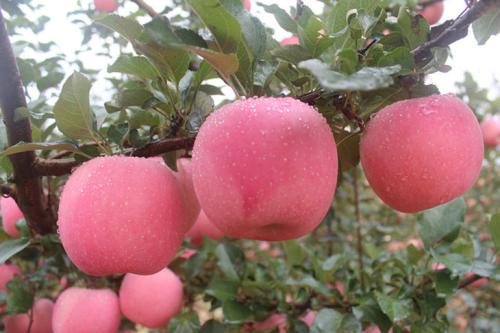apple: (192, 95, 343, 242), (58, 156, 184, 277), (361, 95, 485, 214)
obscured(0)_apple: (119, 265, 183, 329)
